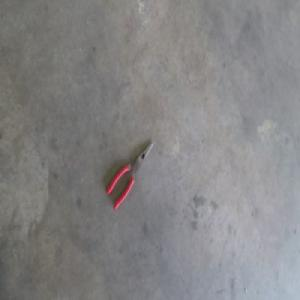Pliers: (107, 135, 155, 208)
